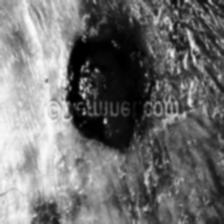Potentially Malignant Skin Tumors: (74, 37, 146, 145)
